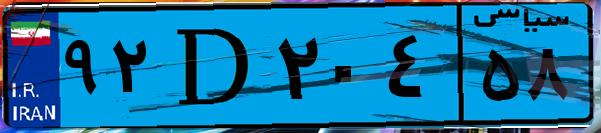0: (330, 28, 385, 110)
2: (270, 28, 330, 110), (110, 28, 158, 98)
4: (385, 28, 445, 110)
5: (475, 38, 525, 113)
8: (525, 38, 570, 115)
9: (57, 26, 110, 100)
D: (158, 12, 270, 120)
